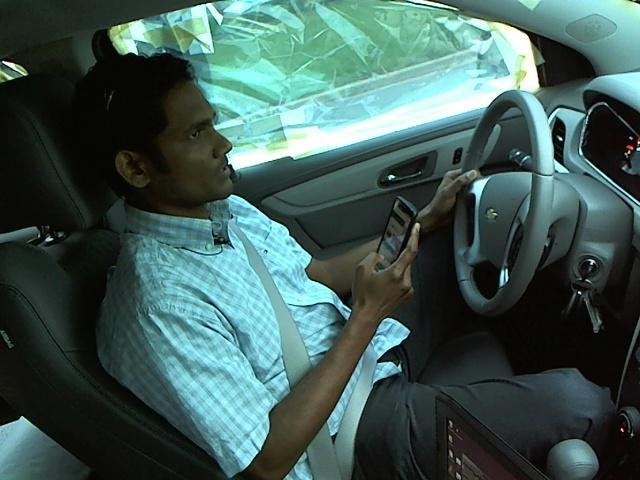PhoneUse: (368, 182, 426, 279)
